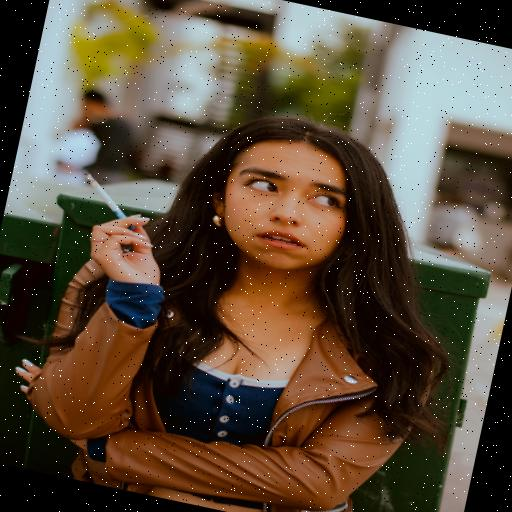terdeteksi pegang rokok: (50, 155, 188, 282)
